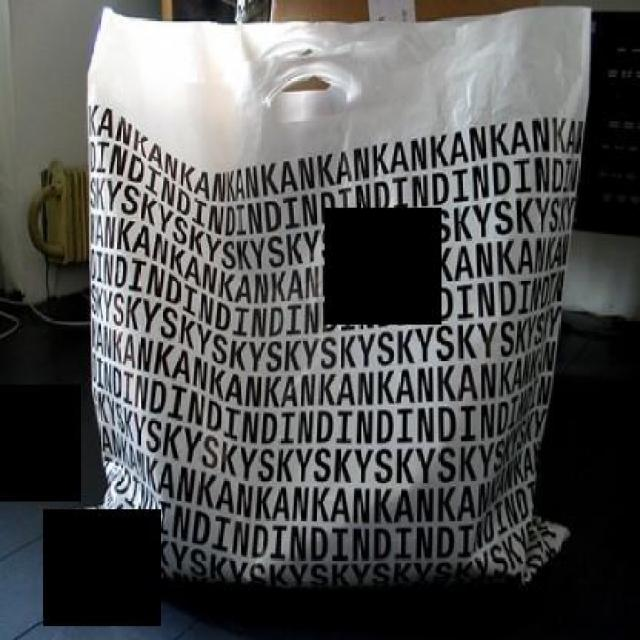plastic bag: (56, 0, 589, 592)
